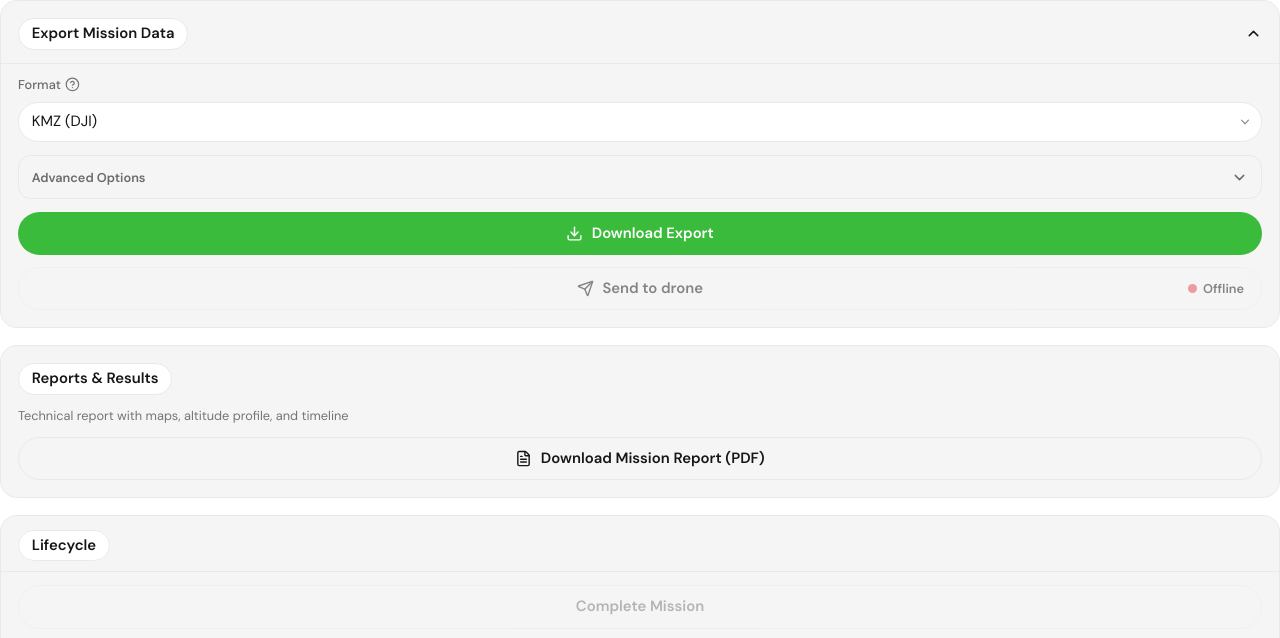
Test: ExportPanel - geozones toggle › enables the geozone checkbox when format and drone are both capable
What coordinates should you click on to do the following:
click the button with test id "advanced-options-toggle"
I would click on:
 (89, 177)
Its box is [32, 168, 1248, 186].
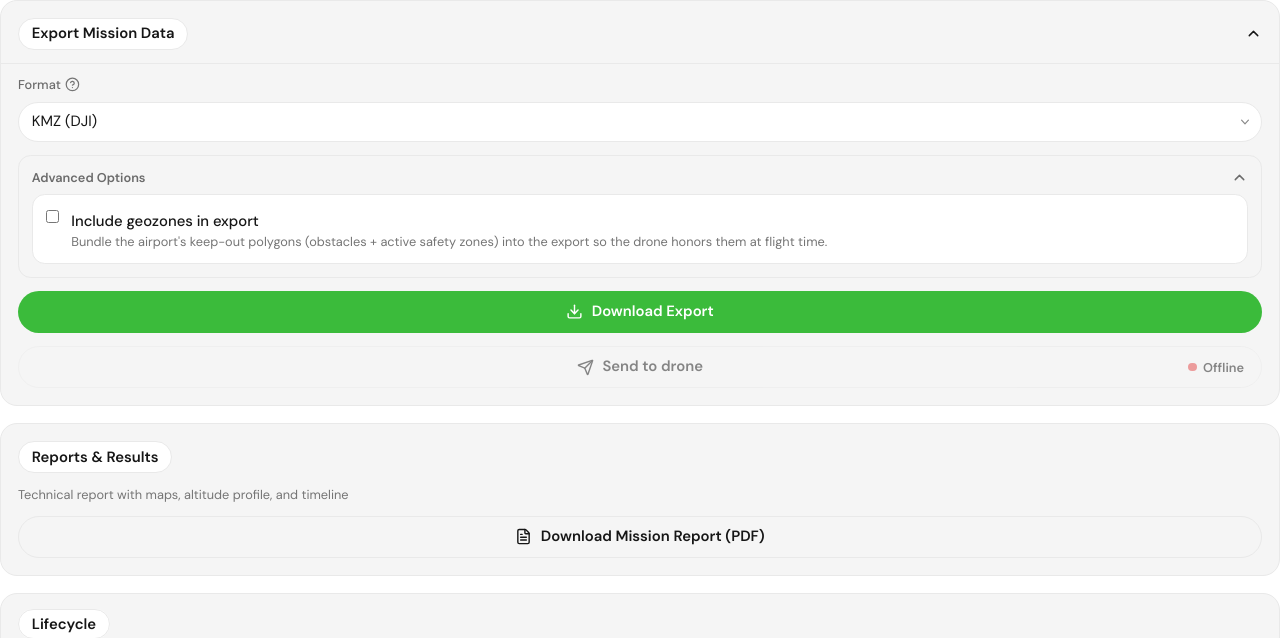
Check: the checkbox with test id "include-geozones" is enabled, box [46, 210, 58, 223]
